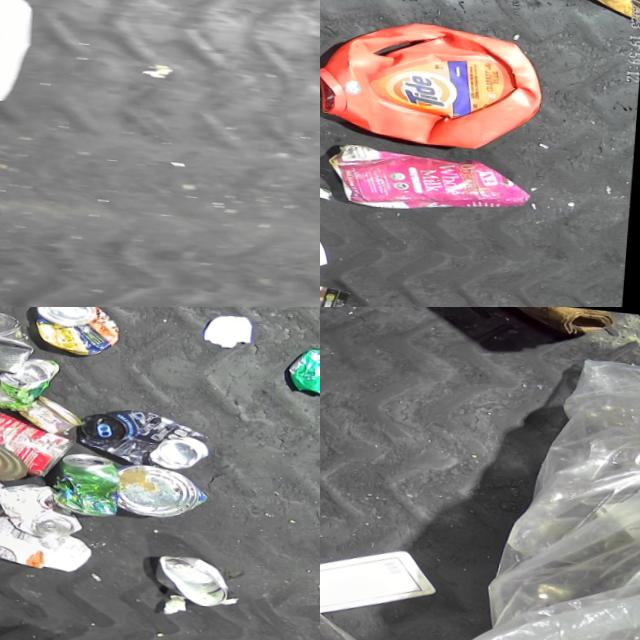can: (78, 401, 212, 470), (0, 397, 74, 477), (116, 459, 209, 519), (0, 475, 85, 536), (52, 446, 123, 513), (155, 549, 236, 605), (32, 307, 122, 355), (0, 350, 60, 411), (17, 390, 83, 434), (0, 307, 36, 374), (286, 340, 320, 397), (0, 417, 28, 480)
milk_jug: (320, 532, 439, 630)
non_white_jug: (320, 2, 546, 160)
